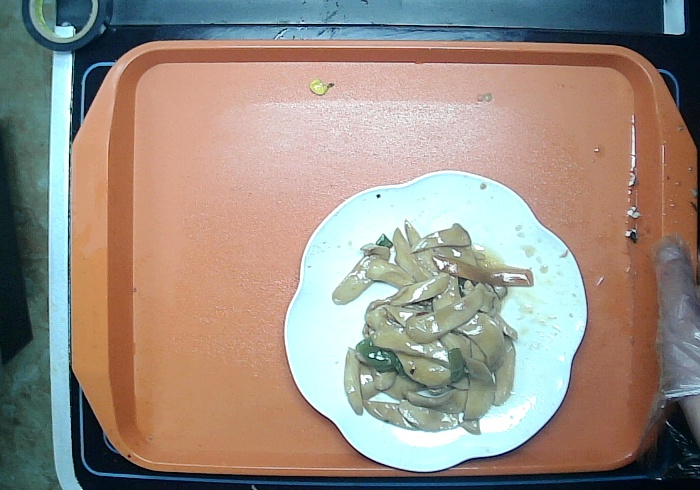HZYJPL-Bai_Se_Hua_Duo_Wan: (275, 163, 593, 483)
